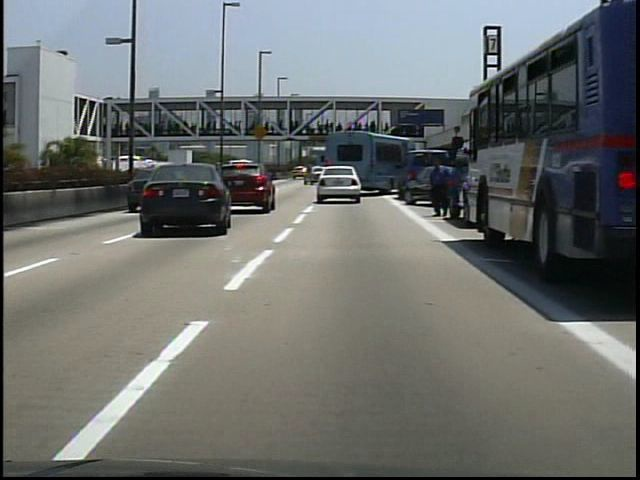person: (426, 153, 451, 222)
